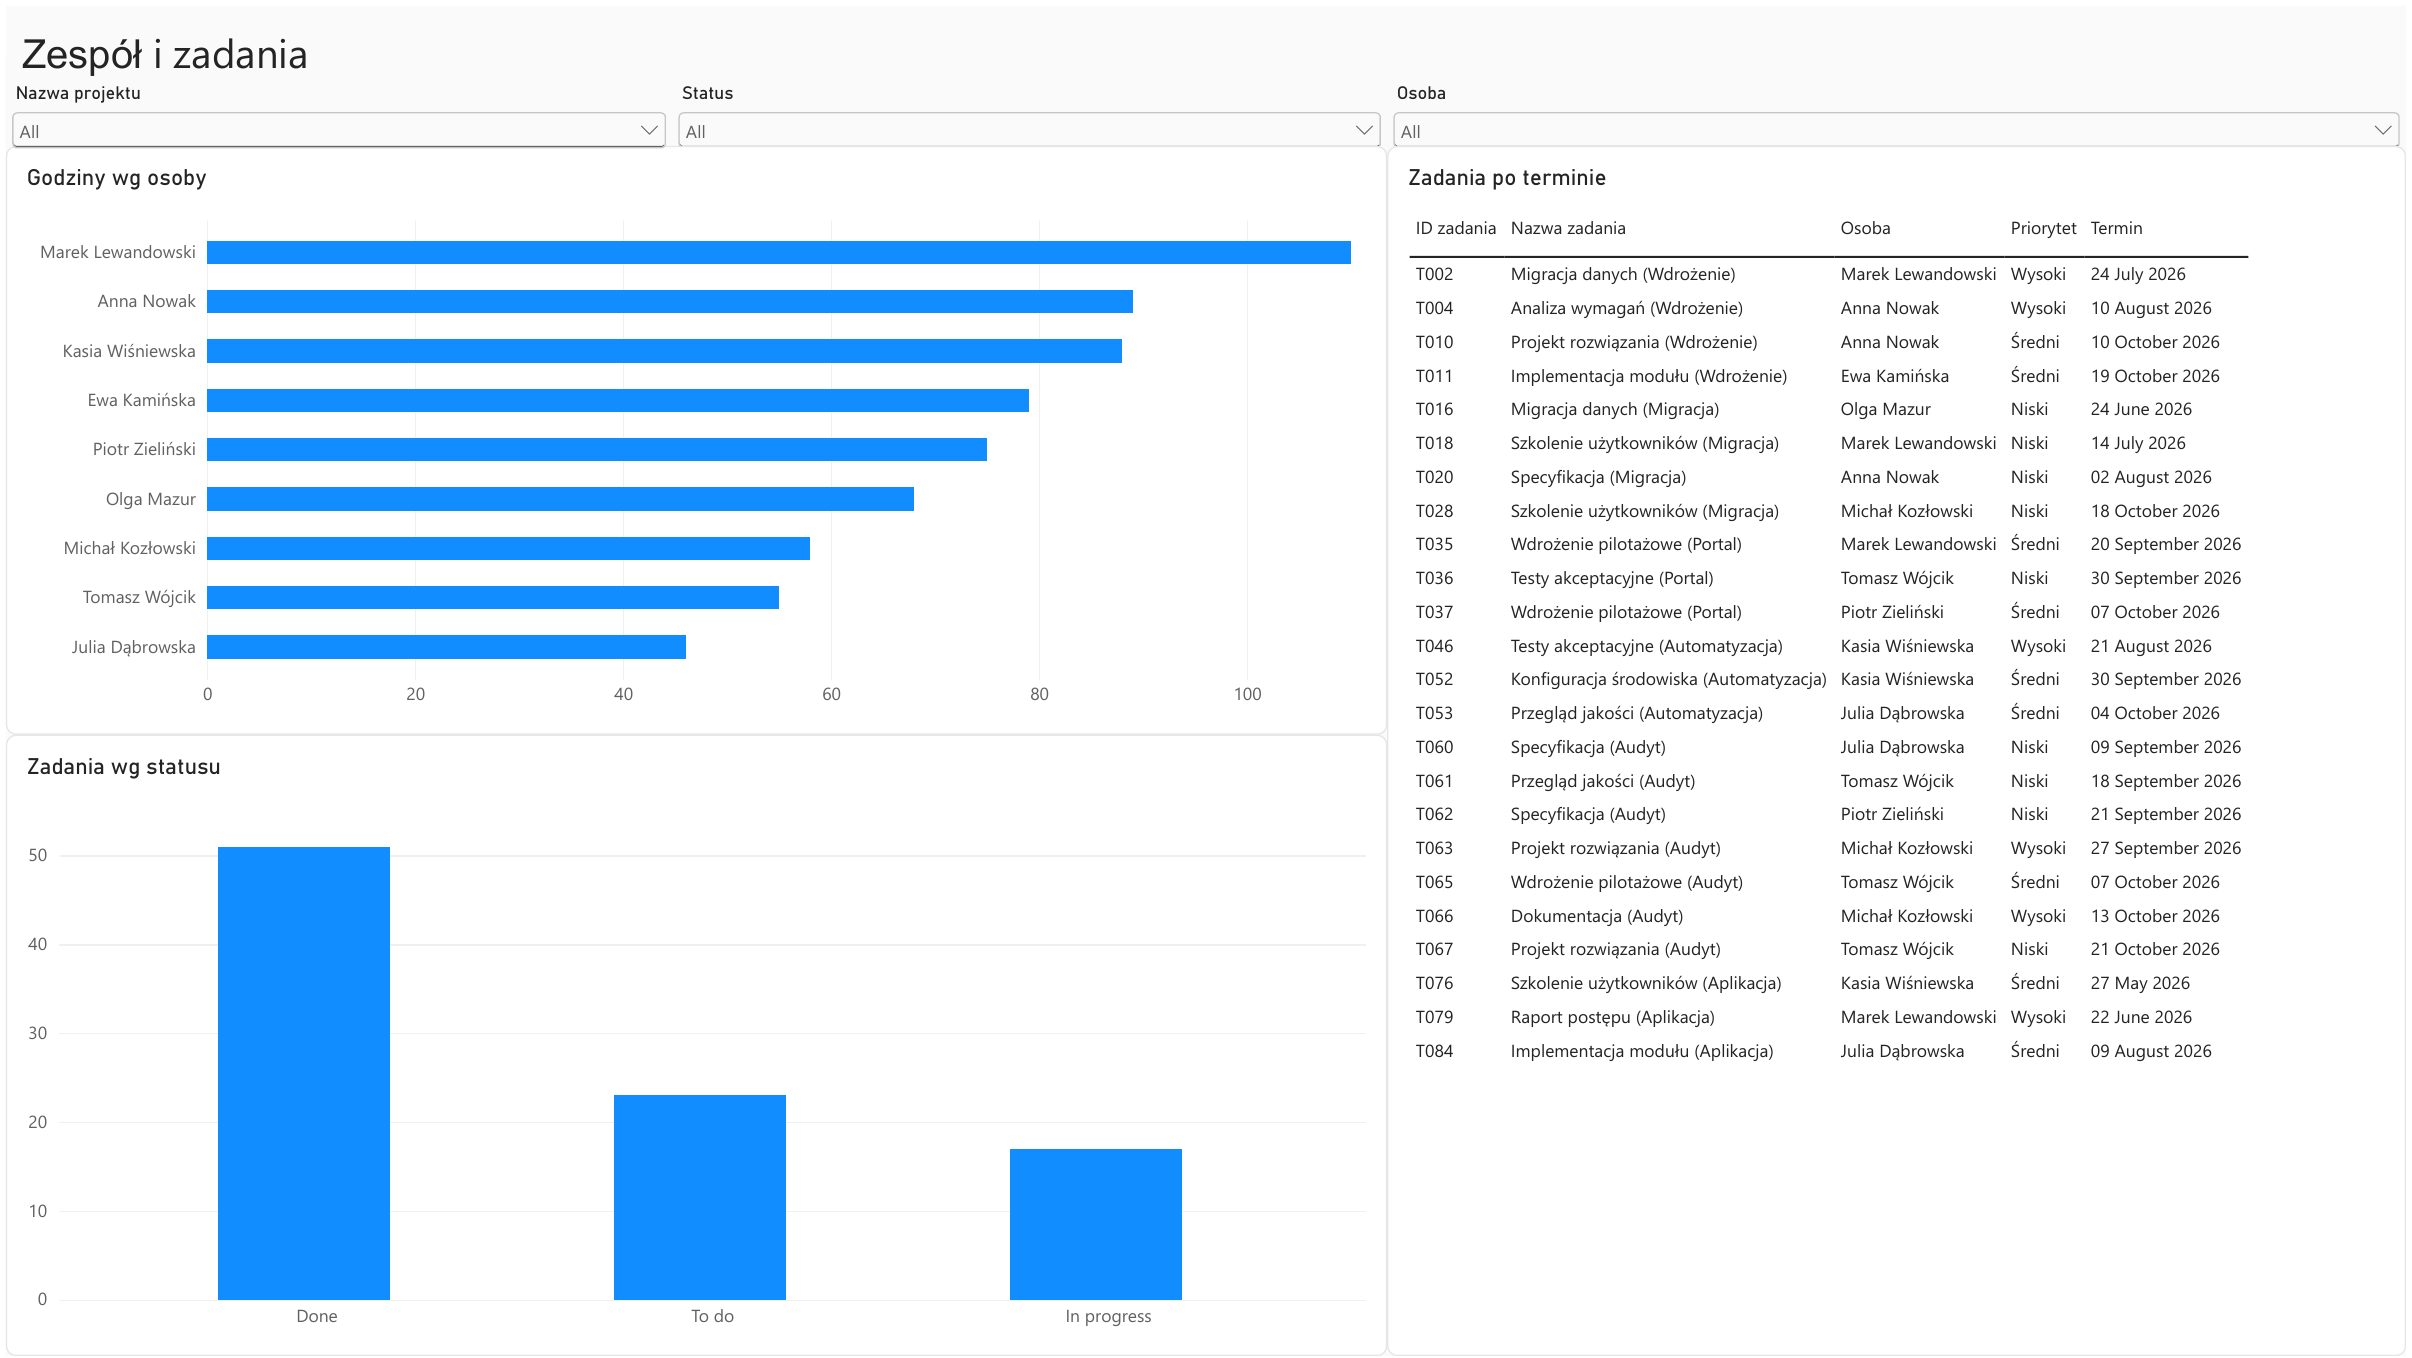

This screenshot's page, from the dashboard's own definition file:
{"tool":"powerbi","page":{"name":"Zespol i zadania","canvas":[1920,1080],"ordinal":1},"visuals":[{"type":"clusteredBarChart","title":"Godziny wg osoby","fields":{"Category":["Osoby.Osoba"],"Y":["Sum(Czas pracy.Godziny)"]},"box":[0,111.7,1105,471.7],"z":0},{"type":"clusteredColumnChart","title":"Zadania wg statusu","fields":{"Category":["Zadania.Status"],"Y":["Czas pracy.Liczba zadań"]},"box":[0,583.3,1105,496.7],"z":1},{"type":"tableEx","title":"Zadania po terminie","fields":{"Values":["Zadania.ID zadania","Zadania.Nazwa zadania","Zadania.Osoba","Zadania.Priorytet","Zadania.Termin"]},"box":[1105,111.7,815,968.3],"z":2},{"type":"slicer","fields":{"Values":["Projekty.Nazwa projektu"]},"box":[0,61.7,533.3,60],"z":3},{"type":"slicer","fields":{"Values":["Osoby.Osoba"]},"box":[1105,61.7,815,50],"z":4},{"type":"slicer","fields":{"Values":["Zadania.Status"]},"box":[533.3,61.7,571.7,50],"z":5},{"type":"textbox","box":[13.3,15,443.3,51.7],"z":6}]}

Visuals, with their boxes in screenshot pixels (x1, y1, x2, y2), scaled from the page's 1920x1080 canvas onto the 2412x1358 screenshot:
"Godziny wg osoby" clusteredBarChart: box=[0, 140, 1388, 734]
"Zadania wg statusu" clusteredColumnChart: box=[0, 733, 1388, 1357]
"Zadania po terminie" tableEx: box=[1388, 140, 2411, 1357]
slicer - Projekty.Nazwa projektu: box=[0, 78, 670, 153]
slicer - Osoby.Osoba: box=[1388, 78, 2411, 140]
slicer - Zadania.Status: box=[670, 78, 1388, 140]
textbox: box=[17, 19, 574, 84]
